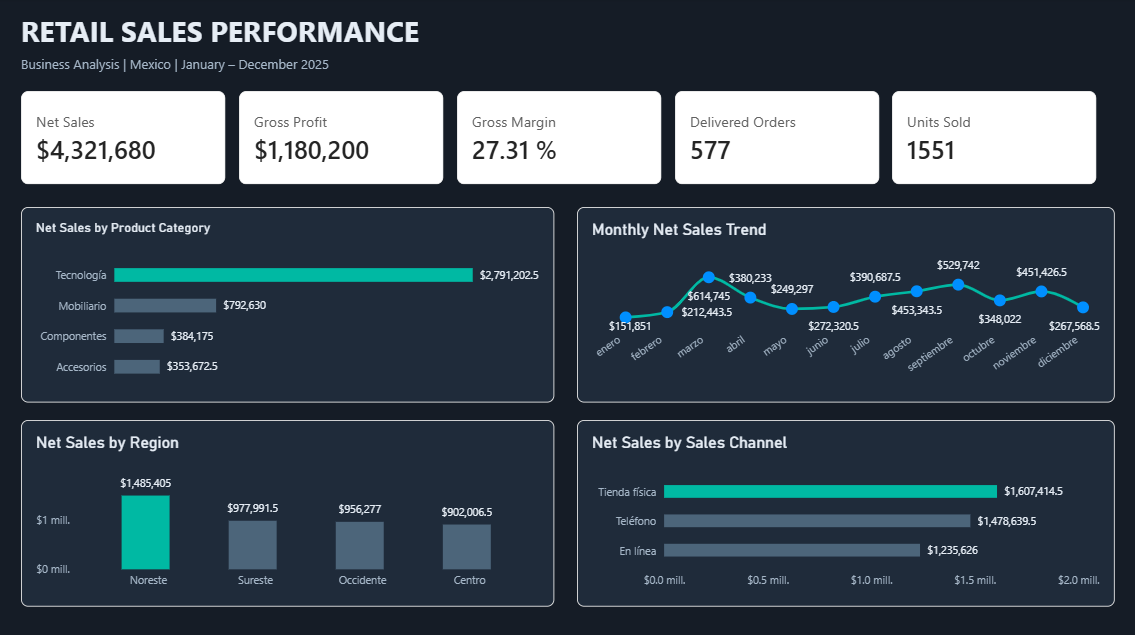

The dashboard page shown, as its layout file describes it:
{"tool":"powerbi","page":{"name":"Python Analysis","canvas":[1280,720],"ordinal":1},"visuals":[{"type":"cardVisual","fields":{"Data":["Sum(delivered_sales_data.net_sales_mxn)"]},"box":[25,105,230,105],"z":0},{"type":"cardVisual","fields":{"Data":["Sum(delivered_sales_data.gross_profit_mxn)"]},"box":[270,105,230,105],"z":1},{"type":"cardVisual","fields":{"Data":["delivered_sales_data.Gross Margin % KPI"]},"box":[515,105,230,105],"z":2},{"type":"cardVisual","fields":{"Data":["Count(delivered_sales_data.order_id)"]},"box":[760,105,230,105],"z":3},{"type":"cardVisual","fields":{"Data":["Sum(delivered_sales_data.quantity)"]},"box":[1005,105,230,105],"z":4},{"type":"textbox","box":[24.5,14.7,899.9,49],"z":5},{"type":"textbox","box":[24.5,63.8,900,25],"z":6},{"type":"clusteredBarChart","title":"Net Sales by Product Category","fields":{"Category":["delivered_sales_data.category"],"Y":["Sum(delivered_sales_data.net_sales_mxn)"]},"box":[25,235,600,220],"z":7},{"type":"lineChart","title":"Monthly Net Sales Trend","fields":{"Category":["delivered_sales_data.Month Name"],"Y":["Sum(delivered_sales_data.net_sales_mxn)"]},"box":[650,235,605,220],"z":8},{"type":"clusteredColumnChart","title":"Net Sales by Region","fields":{"Category":["delivered_sales_data.region"],"Y":["Sum(delivered_sales_data.net_sales_mxn)"]},"box":[25,475,600,210],"z":9},{"type":"clusteredBarChart","title":"Net Sales by Sales Channel","fields":{"Category":["delivered_sales_data.sales_channel"],"Y":["Sum(delivered_sales_data.net_sales_mxn)"]},"box":[650,475,605,210],"z":10}]}

Visuals, with their boxes in screenshot pixels (x1, y1, x2, y2), scaled from the page's 1280x720 canvas onto the 1135x635 screenshot:
cardVisual - Sum(delivered_sales_data.net_sales_mxn): l=22, t=93, r=226, b=185
cardVisual - Sum(delivered_sales_data.gross_profit_mxn): l=239, t=93, r=443, b=185
cardVisual - delivered_sales_data.Gross Margin % KPI: l=457, t=93, r=661, b=185
cardVisual - Count(delivered_sales_data.order_id): l=674, t=93, r=878, b=185
cardVisual - Sum(delivered_sales_data.quantity): l=891, t=93, r=1095, b=185
textbox: l=22, t=13, r=820, b=56
textbox: l=22, t=56, r=820, b=78
"Net Sales by Product Category" clusteredBarChart: l=22, t=207, r=554, b=401
"Monthly Net Sales Trend" lineChart: l=576, t=207, r=1113, b=401
"Net Sales by Region" clusteredColumnChart: l=22, t=419, r=554, b=604
"Net Sales by Sales Channel" clusteredBarChart: l=576, t=419, r=1113, b=604
